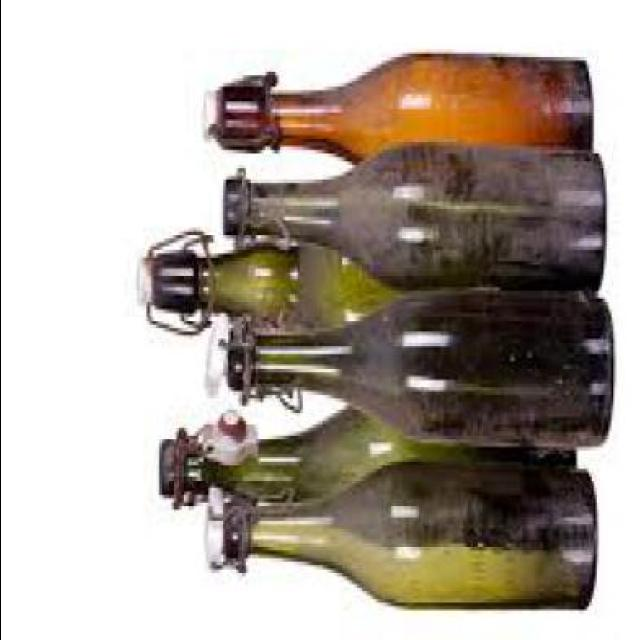kaca: (222, 284, 608, 439), (222, 136, 602, 284), (222, 458, 596, 602), (218, 54, 588, 194), (158, 403, 572, 511), (148, 228, 464, 336)
